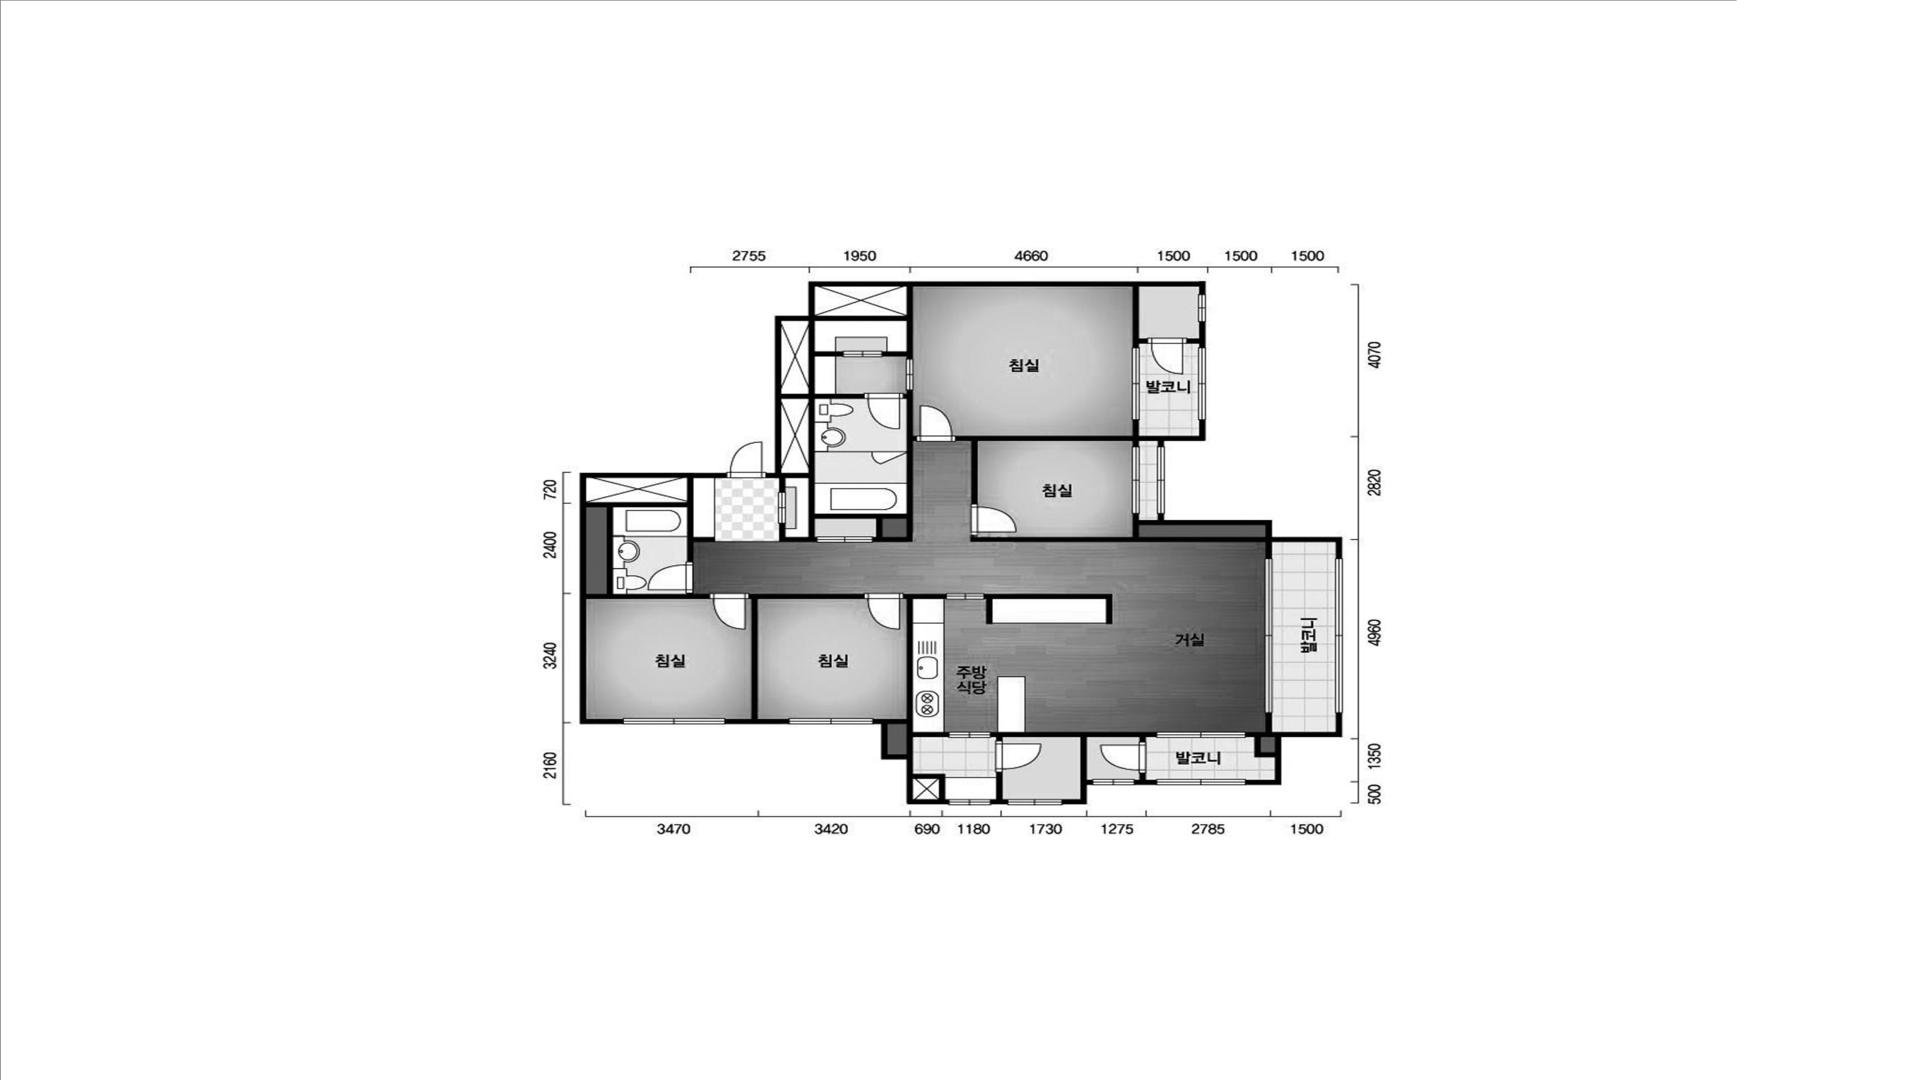door: (1147, 338, 1188, 376), (994, 740, 1043, 771), (727, 440, 766, 479), (709, 593, 748, 632), (916, 405, 956, 442), (864, 393, 903, 430), (647, 562, 694, 593), (1100, 742, 1147, 773), (971, 504, 1017, 534), (815, 451, 907, 464), (843, 351, 882, 357), (906, 359, 914, 390), (778, 492, 786, 524), (948, 732, 990, 737)
wall: (766, 281, 1207, 479), (580, 473, 727, 724), (887, 599, 948, 754), (1133, 513, 1342, 558), (1245, 713, 1342, 785), (873, 719, 948, 804), (984, 593, 1113, 624), (955, 435, 1158, 447), (687, 477, 715, 562), (903, 390, 916, 542), (971, 535, 1265, 542), (808, 320, 816, 542), (990, 732, 1156, 742), (1158, 419, 1205, 446), (1133, 286, 1147, 348), (913, 774, 945, 799), (752, 599, 758, 719), (873, 520, 907, 542), (1245, 712, 1275, 737), (1063, 779, 1092, 804), (585, 593, 709, 599), (749, 593, 865, 599), (815, 513, 906, 520), (607, 506, 613, 593), (779, 524, 808, 542), (587, 502, 687, 508), (971, 442, 978, 505), (815, 315, 907, 320), (906, 286, 913, 359), (1254, 737, 1275, 757), (725, 719, 789, 724), (903, 593, 947, 599), (1081, 737, 1087, 779), (814, 394, 864, 398), (997, 771, 1004, 799), (814, 351, 843, 356), (781, 394, 808, 400), (1200, 322, 1205, 348), (1265, 542, 1273, 559), (1134, 779, 1156, 785), (786, 473, 808, 479), (1133, 419, 1139, 435), (882, 352, 906, 356), (992, 799, 1009, 804), (779, 479, 786, 492), (1133, 525, 1139, 537), (1187, 339, 1200, 344), (1139, 773, 1146, 779)
window: (1333, 559, 1342, 713), (1265, 559, 1274, 713), (1131, 348, 1141, 419), (1197, 348, 1207, 419), (1131, 446, 1141, 514), (1156, 446, 1166, 514), (1156, 732, 1246, 738), (1156, 779, 1246, 786), (789, 717, 873, 724), (624, 719, 725, 724), (1007, 799, 1062, 806), (948, 799, 992, 806), (1197, 294, 1207, 322), (1092, 779, 1134, 785)
